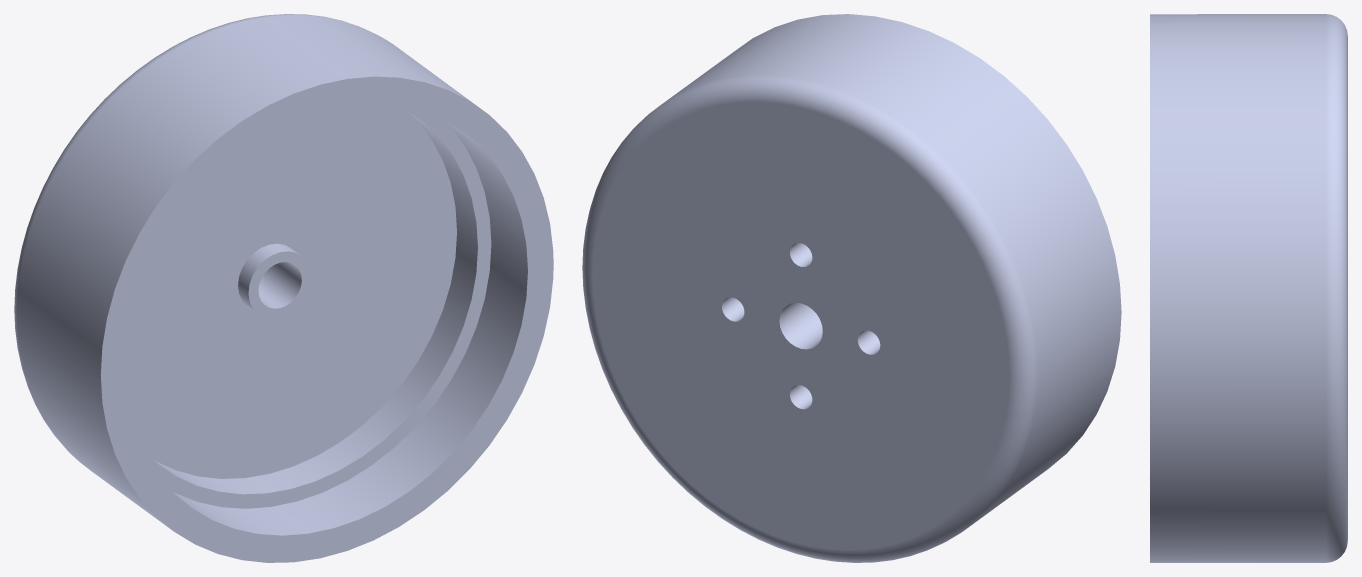
Rendered from rotor-model.glb.
3 views of the same model, side by side, from view 1: azimuth 30°, elevation 25°; view 2: azimuth 150°, elevation 25°; view 3: azimuth 270°, elevation 25° (orthographic). The views are drawn at different scales.
Parts seen in each view (by area): view 1: Rotor NRE Rev D; view 2: Rotor NRE Rev D; view 3: Rotor NRE Rev D.
Boxes of the visible parts, x1,y1,x2,y2 form: Rotor NRE Rev D: (14,14,553,562); Rotor NRE Rev D: (582,14,1121,562); Rotor NRE Rev D: (1150,14,1347,562).
Bounding box in the file's own units: 0.05 × 0.05 × 0.018.
